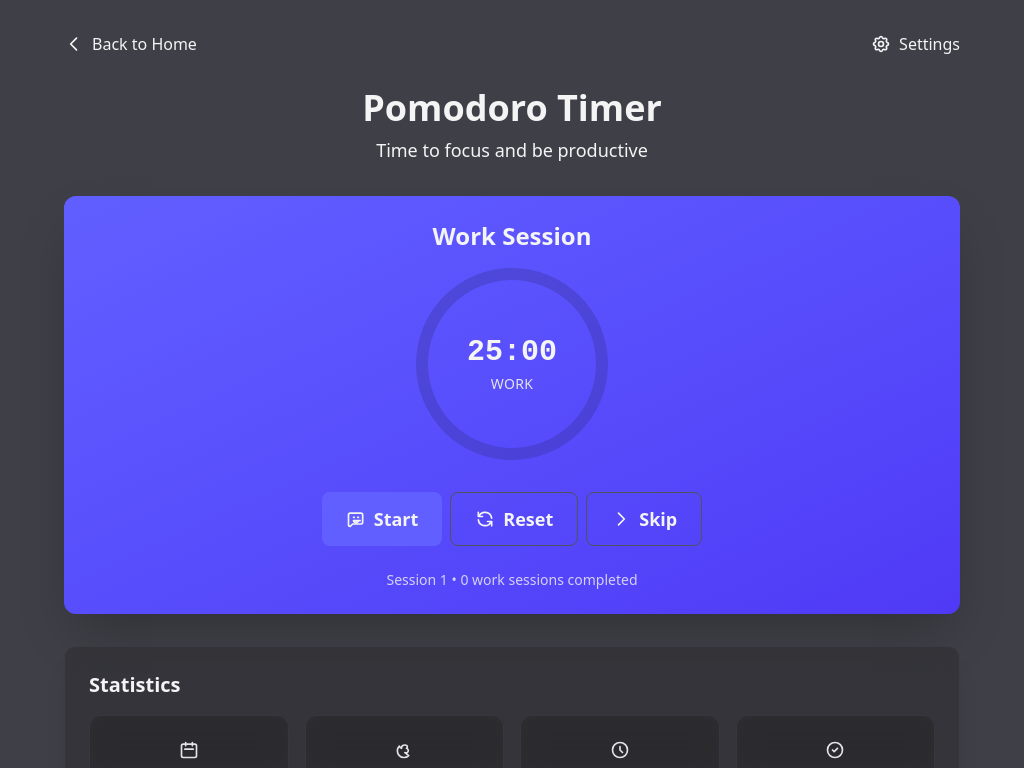
it: PomodoroPage Integration Tests › Complete User Workflows › complete session cycle workflow
Expected: the heading "Work Session" is shown, x1=433 y1=219 x2=591 y2=252
# Skip to break
Click the button "Skip" at [644, 519], box x1=586 y1=492 x2=702 y2=546
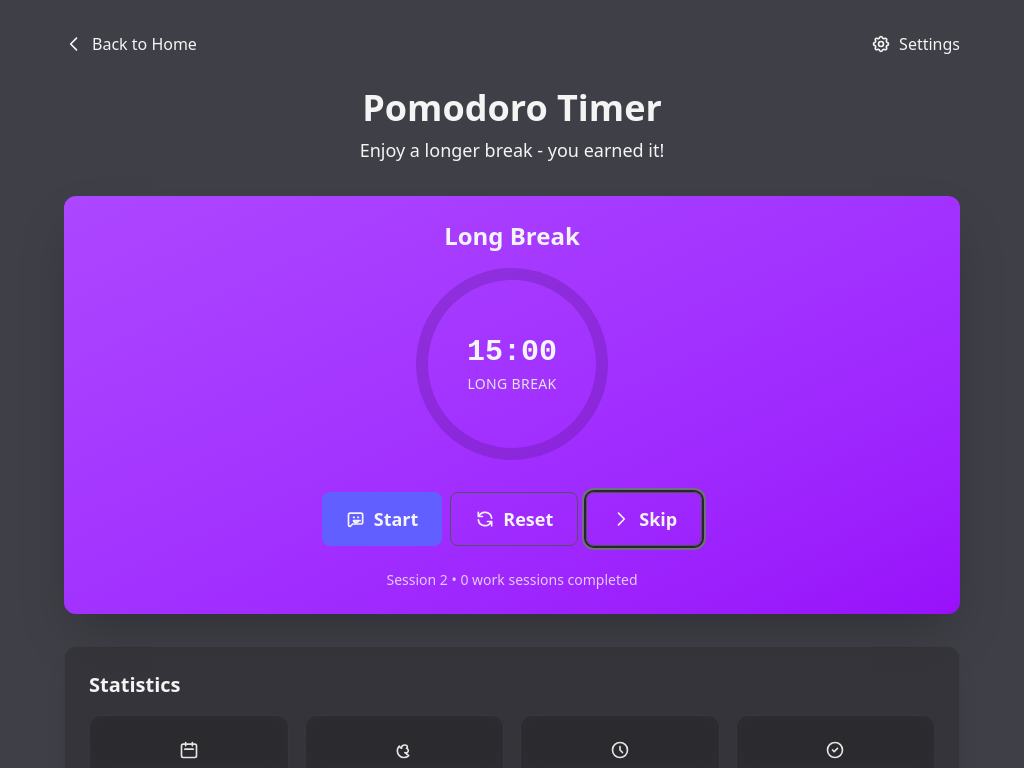
Expected: the heading "Long Break" is shown, x1=444 y1=219 x2=580 y2=252
# Skip back to work
Click the button "Skip" at [644, 519], box x1=586 y1=492 x2=702 y2=546
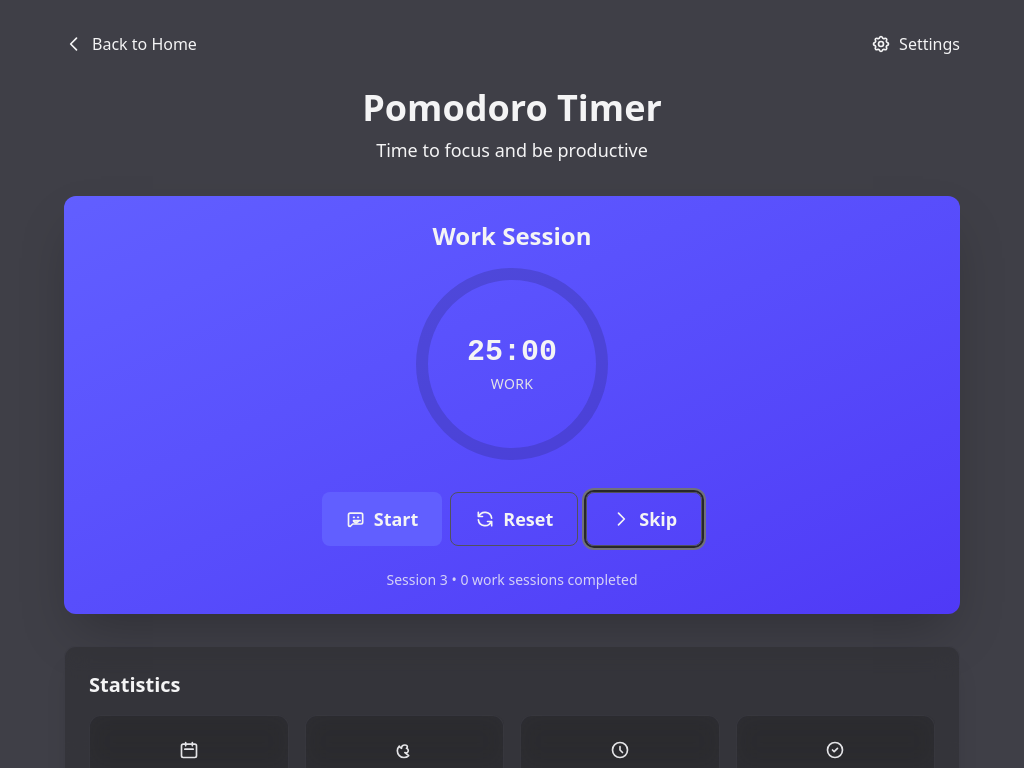
Expected: the heading "Work Session" is shown, x1=433 y1=219 x2=591 y2=252
